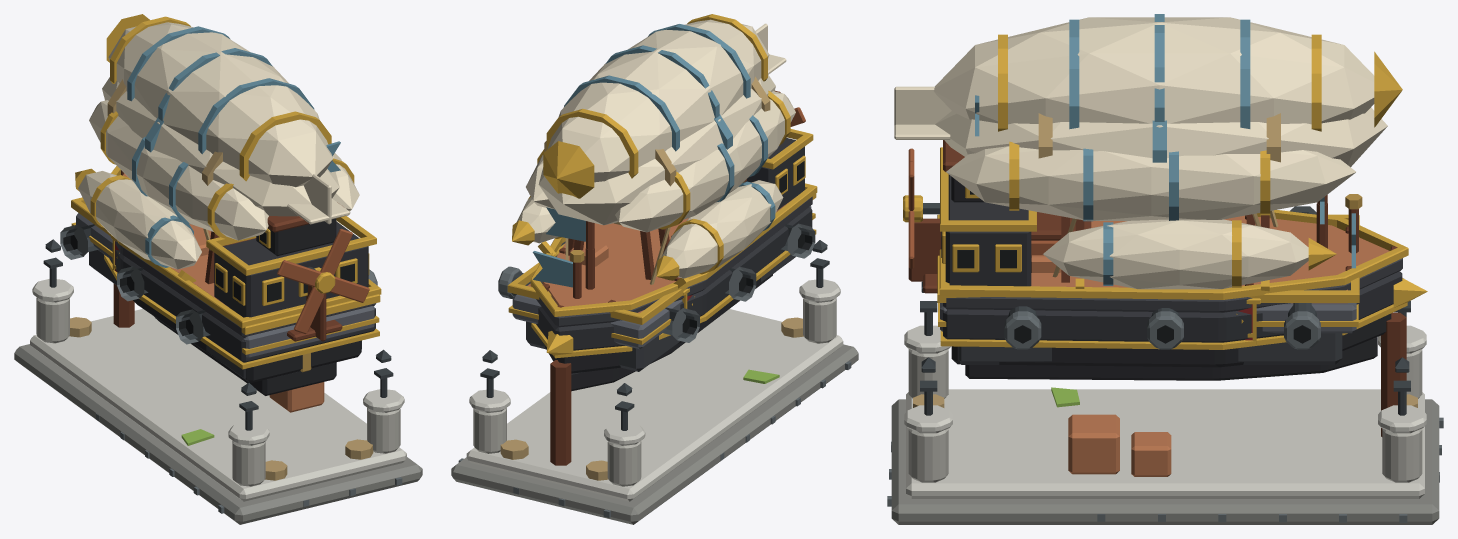
File: broadside.glb
3 renders of one model, left to right at view 1: azimuth 30°, elevation 25°; view 2: azimuth 150°, elevation 25°; view 3: azimuth 270°, elevation 25°, orthographic. The views are drawn at different scales.
Parts seen in each view (by area): view 1: BWAR_G_broadside__Slab, BWAR_G_broadside__L3Envelope, BWAR_G_broadside__Plinth, BWAR_G_broadside__L2Envelope-1, BWAR_G_broadside__L3Side-1, BWAR_G_broadside__Envelope, BWAR_G_broadside__L3Castle, BWAR_G_broadside__L3HullMid, BWAR_G_broadside__L2HullHigh, BWAR_G_broadside__L3HullLow, BWAR_G_broadside__L3CastleRail, BWAR_G_broadside__L3RailGold (+36 smaller); view 2: BWAR_G_broadside__Slab, BWAR_G_broadside__L3Envelope, BWAR_G_broadside__Plinth, BWAR_G_broadside__L2Envelope-1, BWAR_G_broadside__Envelope, BWAR_G_broadside__L3Side-1, BWAR_G_broadside__L3Deck, BWAR_G_broadside__L3HullMid, BWAR_G_broadside__L3RailGold, BWAR_G_broadside__L3EnvelopeNose, BWAR_G_broadside__Mast, BWAR_G_broadside__L3HullTop (+33 smaller); view 3: BWAR_G_broadside__Slab, BWAR_G_broadside__L3Envelope, BWAR_G_broadside__L2Envelope1, BWAR_G_broadside__Plinth, BWAR_G_broadside__L3Side1, BWAR_G_broadside__Envelope, BWAR_G_broadside__L3HullMid, BWAR_G_broadside__L3RailGold, BWAR_G_broadside__L3Keel, BWAR_G_broadside__Crates, BWAR_G_broadside__L3Castle, BWAR_G_broadside__L3HullTop (+35 smaller).
Part boxes in pixels (bbox=[...]): BWAR_G_broadside__Slab: bbox=[30, 309, 406, 501]; BWAR_G_broadside__L3Envelope: bbox=[108, 22, 332, 187]; BWAR_G_broadside__Plinth: bbox=[14, 344, 422, 524]; BWAR_G_broadside__L2Envelope-1: bbox=[89, 100, 268, 240]; BWAR_G_broadside__L3Side-1: bbox=[78, 171, 201, 269]; BWAR_G_broadside__Envelope: bbox=[102, 77, 339, 216]; BWAR_G_broadside__L3Castle: bbox=[214, 221, 368, 317]; BWAR_G_broadside__L3HullMid: bbox=[109, 249, 375, 362]; BWAR_G_broadside__L2HullHigh: bbox=[76, 213, 375, 358]; BWAR_G_broadside__L3HullLow: bbox=[133, 298, 361, 382]; BWAR_G_broadside__L3CastleRail: bbox=[206, 216, 376, 275]; BWAR_G_broadside__L3RailGold: bbox=[111, 166, 381, 328]; BWAR_G_broadside__Slab: bbox=[466, 309, 843, 501]; BWAR_G_broadside__L3Envelope: bbox=[547, 19, 769, 182]; BWAR_G_broadside__Plinth: bbox=[451, 344, 858, 524]; BWAR_G_broadside__L2Envelope-1: bbox=[615, 91, 795, 232]; BWAR_G_broadside__Envelope: bbox=[538, 74, 775, 225]; BWAR_G_broadside__L3Side-1: bbox=[661, 180, 783, 278]; BWAR_G_broadside__L3Deck: bbox=[542, 199, 792, 306]; BWAR_G_broadside__L3HullMid: bbox=[536, 207, 812, 350]; BWAR_G_broadside__L3RailGold: bbox=[530, 183, 817, 316]; BWAR_G_broadside__L3EnvelopeNose: bbox=[543, 141, 594, 198]; BWAR_G_broadside__Mast: bbox=[550, 360, 571, 465]; BWAR_G_broadside__L3HullTop: bbox=[536, 196, 812, 327]; BWAR_G_broadside__Slab: bbox=[906, 389, 1424, 498]; BWAR_G_broadside__L3Envelope: bbox=[934, 17, 1374, 124]; BWAR_G_broadside__L2Envelope1: bbox=[946, 146, 1355, 220]; BWAR_G_broadside__Plinth: bbox=[891, 399, 1439, 524]; BWAR_G_broadside__L3Side1: bbox=[1043, 219, 1308, 289]; BWAR_G_broadside__Envelope: bbox=[935, 107, 1387, 167]; BWAR_G_broadside__L3HullMid: bbox=[943, 271, 1402, 342]; BWAR_G_broadside__L3RailGold: bbox=[939, 210, 1408, 299]; BWAR_G_broadside__L3Keel: bbox=[965, 337, 1377, 380]; BWAR_G_broadside__Crates: bbox=[1068, 414, 1171, 476]; BWAR_G_broadside__L3Castle: bbox=[945, 174, 1031, 286]; BWAR_G_broadside__L3HullTop: bbox=[943, 258, 1402, 312].
Bounding box in the file's own units: 0.97 × 1.74 × 1.95.
